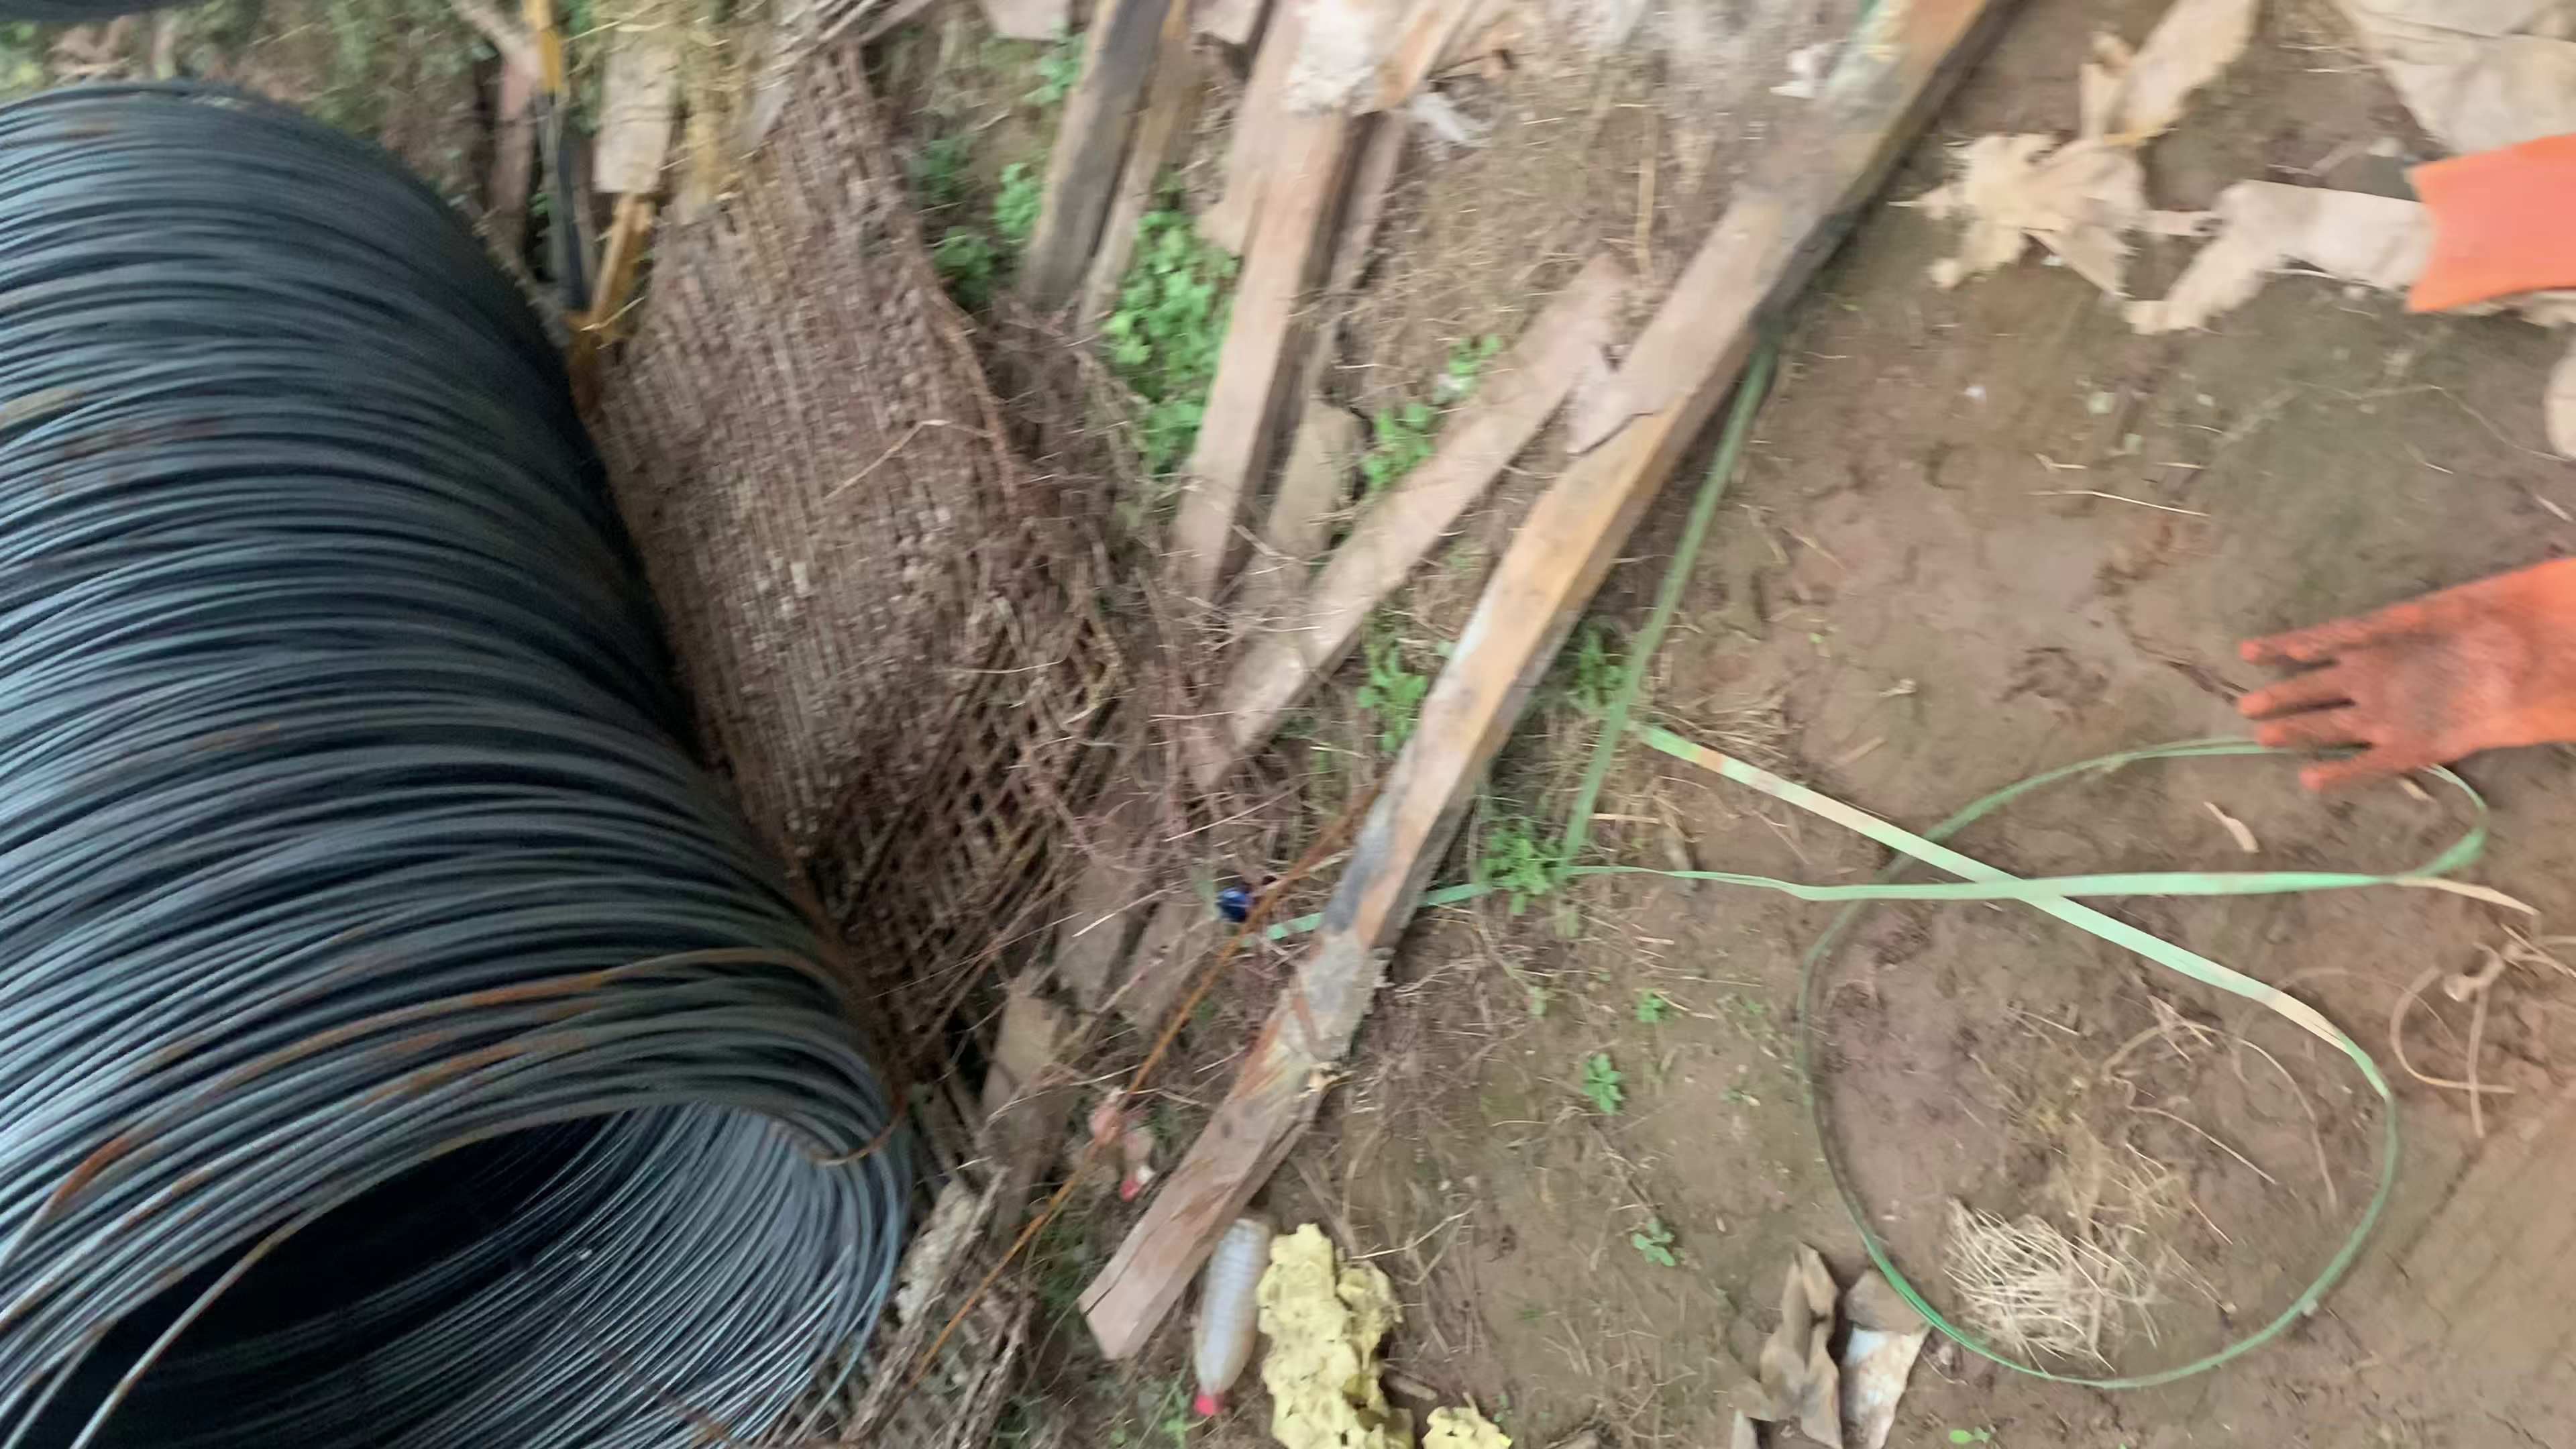coil: (0, 1030, 941, 1445)
